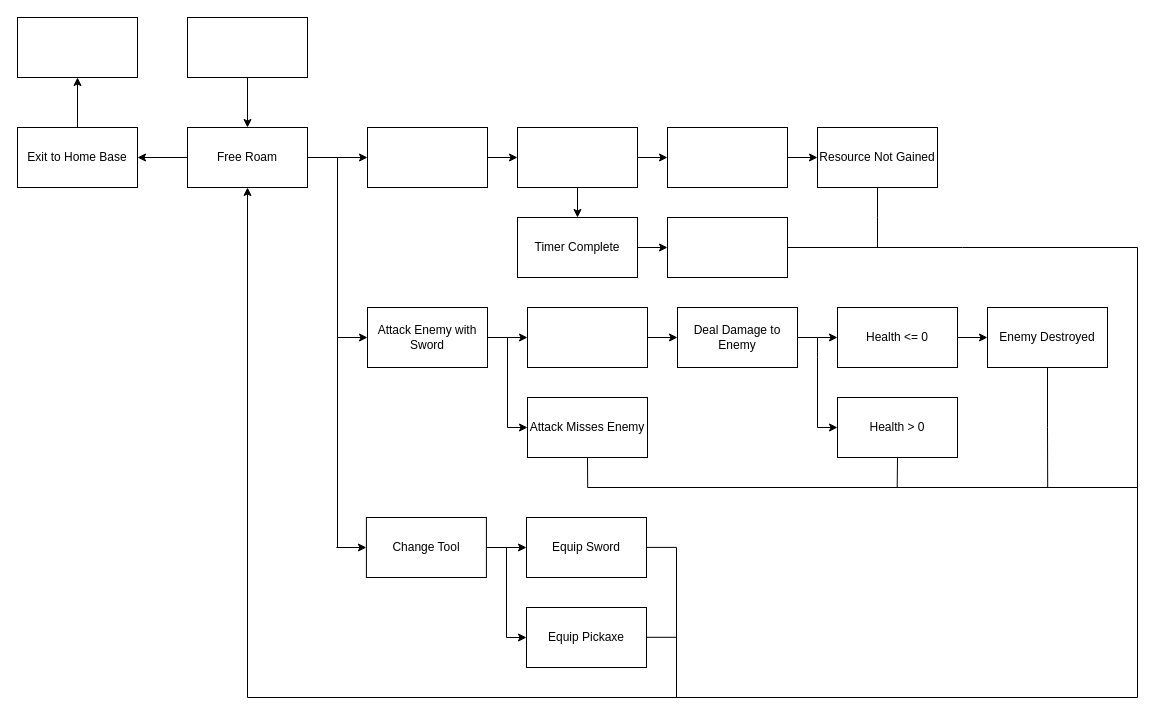
Some shapes in this 1156 by 723 pixel diagram are drawn without their labels. Each missing label, with the box of its shape:
Attack Hits Enemy: (526, 306, 648, 368)
Enter Exploration Area: (186, 16, 308, 78)
Load Home Base Scene: (16, 16, 138, 78)
Mine Resource with Pickaxe: (366, 126, 488, 188)
Mining Timer & Animation Start: (516, 126, 638, 188)
Resource Gained/Added to Inventory: (666, 216, 788, 278)
Timer Interrupt (Player or Enemy): (666, 126, 788, 188)
